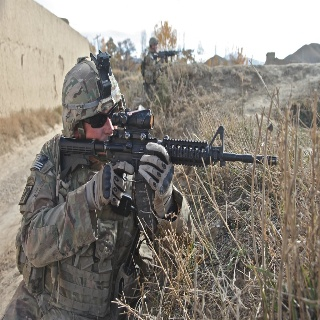rifle: (58, 108, 278, 228)
